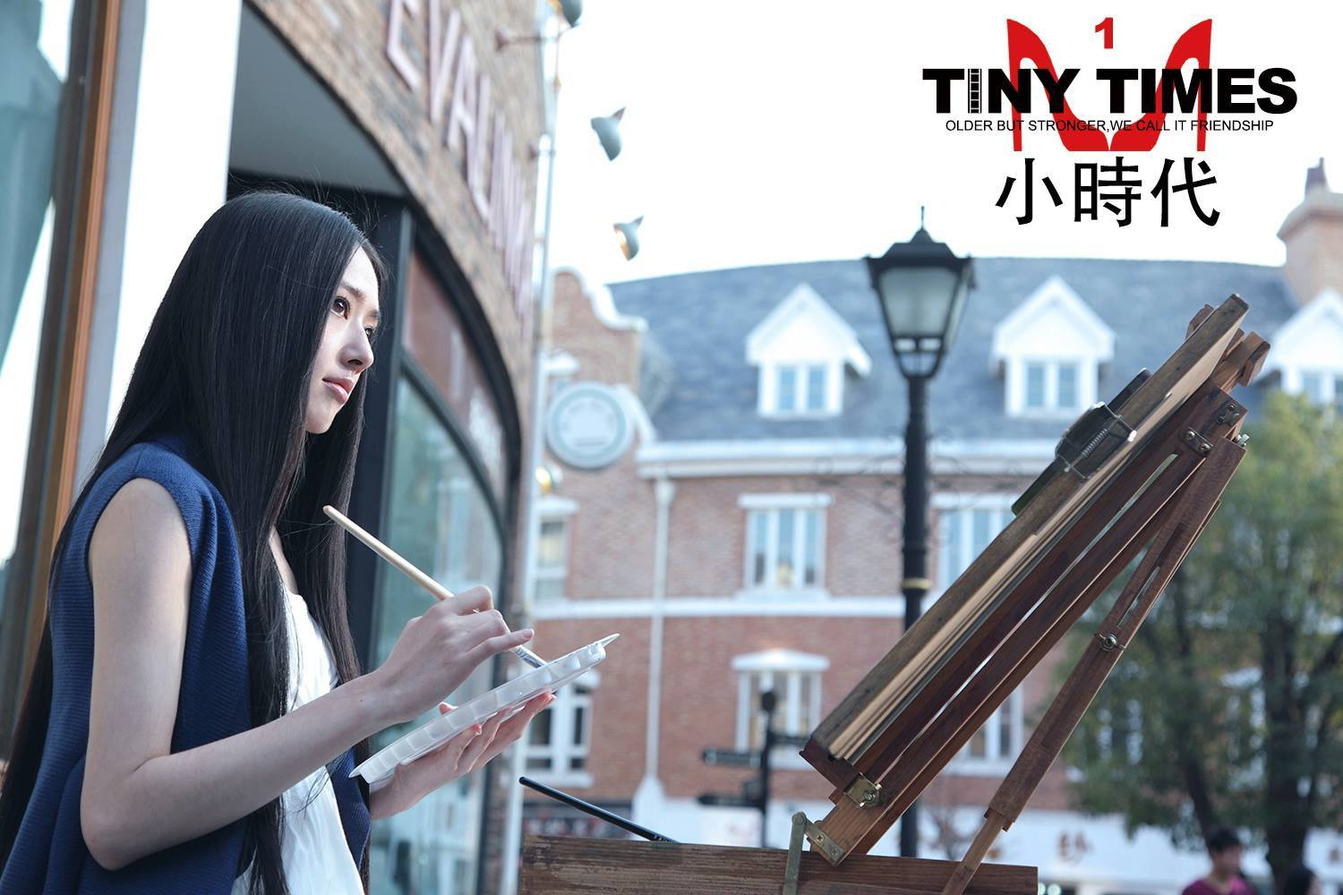other: (30, 173, 595, 879)
